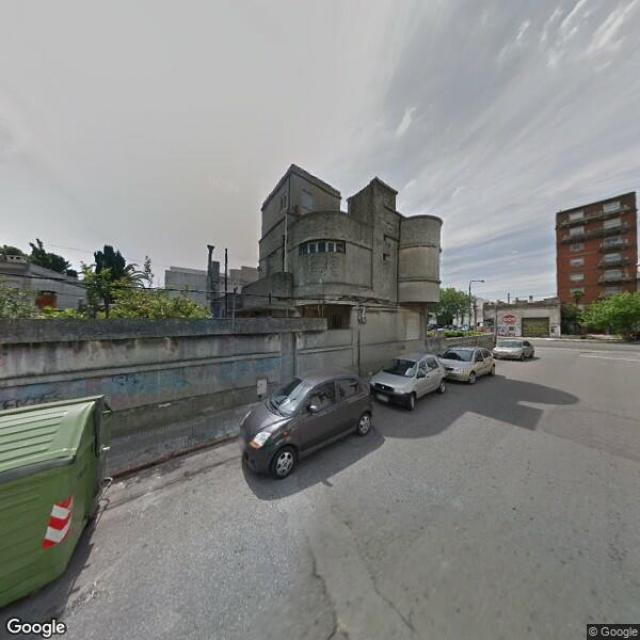garbage container: (1, 380, 146, 618)
